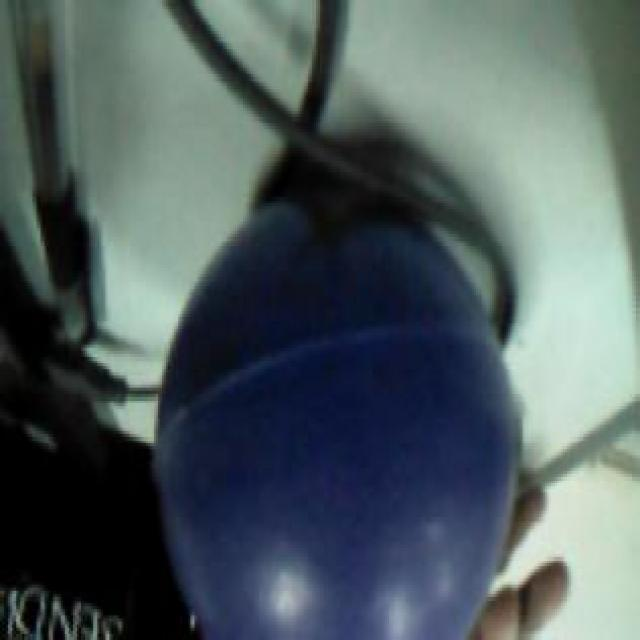BallPurple: (154, 188, 522, 640)
